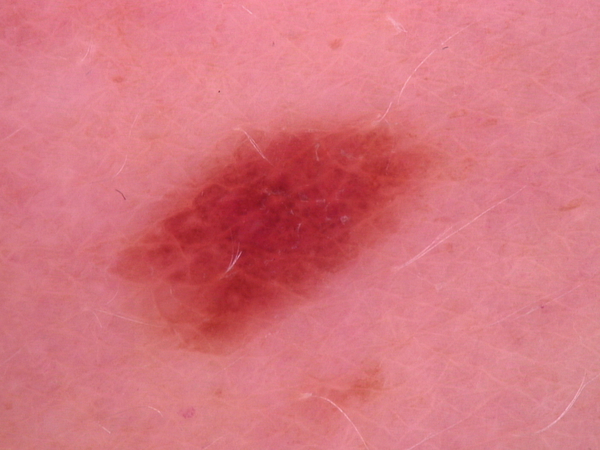Detected Lesion: (111, 110, 436, 349)
